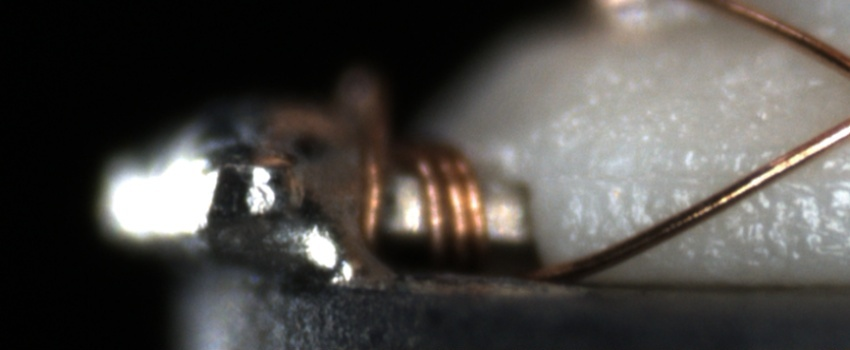DL: (605, 154, 850, 214)
TE: (269, 62, 507, 272)
